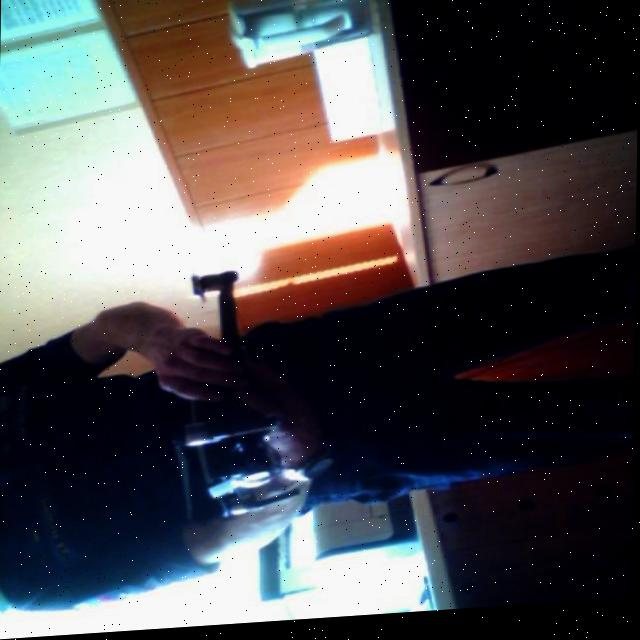drone: (156, 256, 344, 631)
